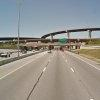Bridge: (9, 25, 100, 47)
